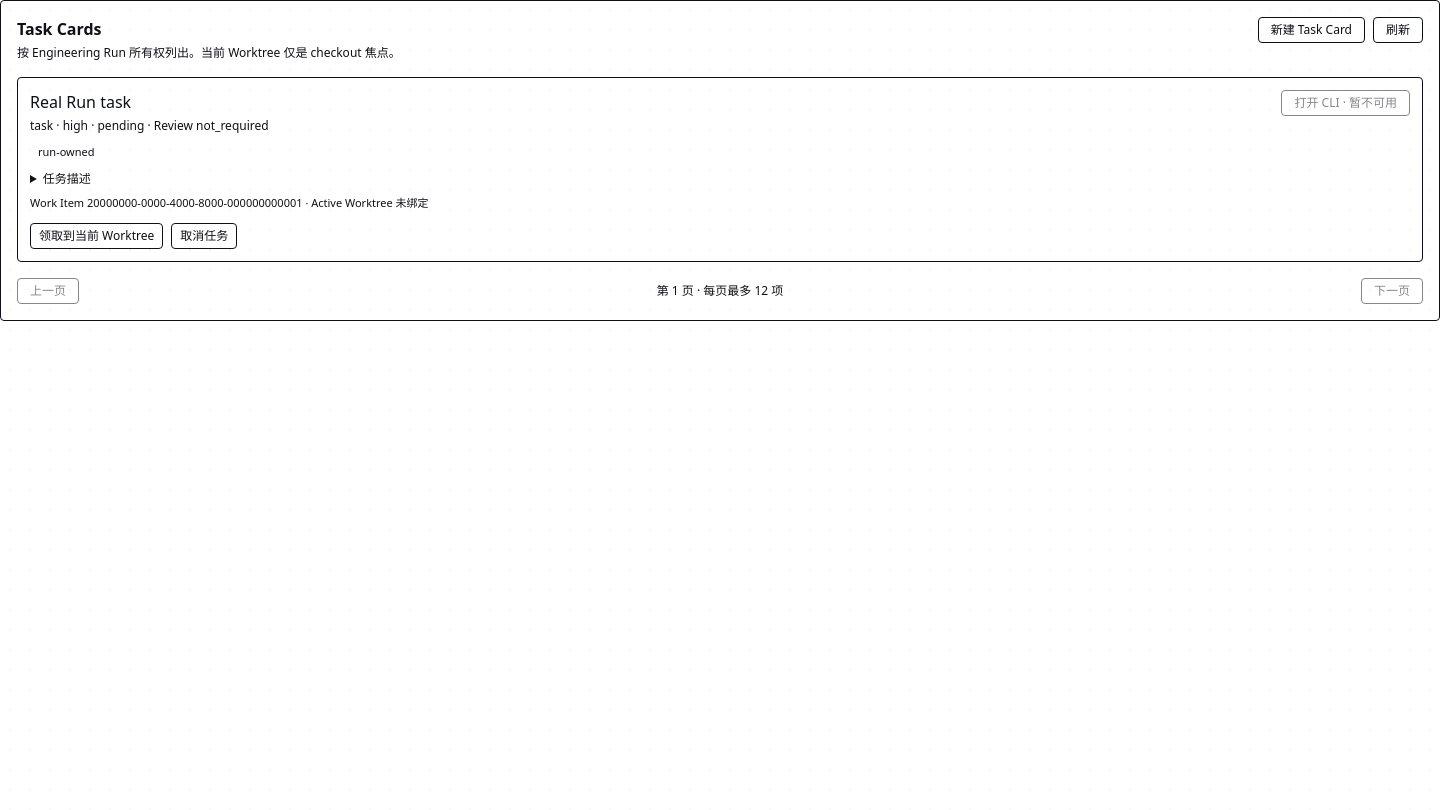
RunTaskCardsPanel › fails closed if the pending command cannot be saved before POST
The image size is (1440, 810).
Click the button "新建 Task Card". click: coordinates (1311, 30)
box: [1258,17,1365,43]
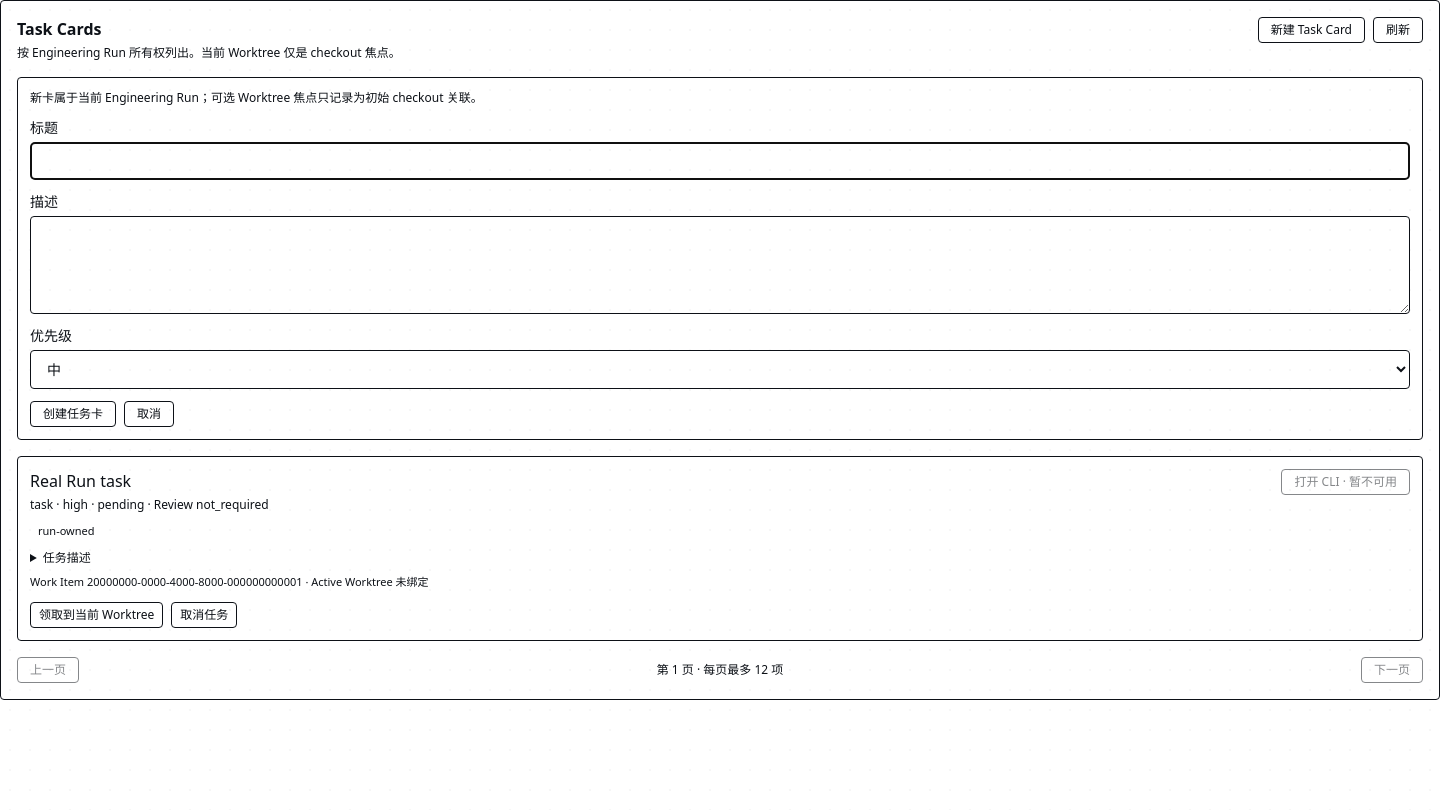
Type "Do not post without recovery" into the field labelled "标题". click: coordinates (720, 161)
box: [30,142,1410,180]
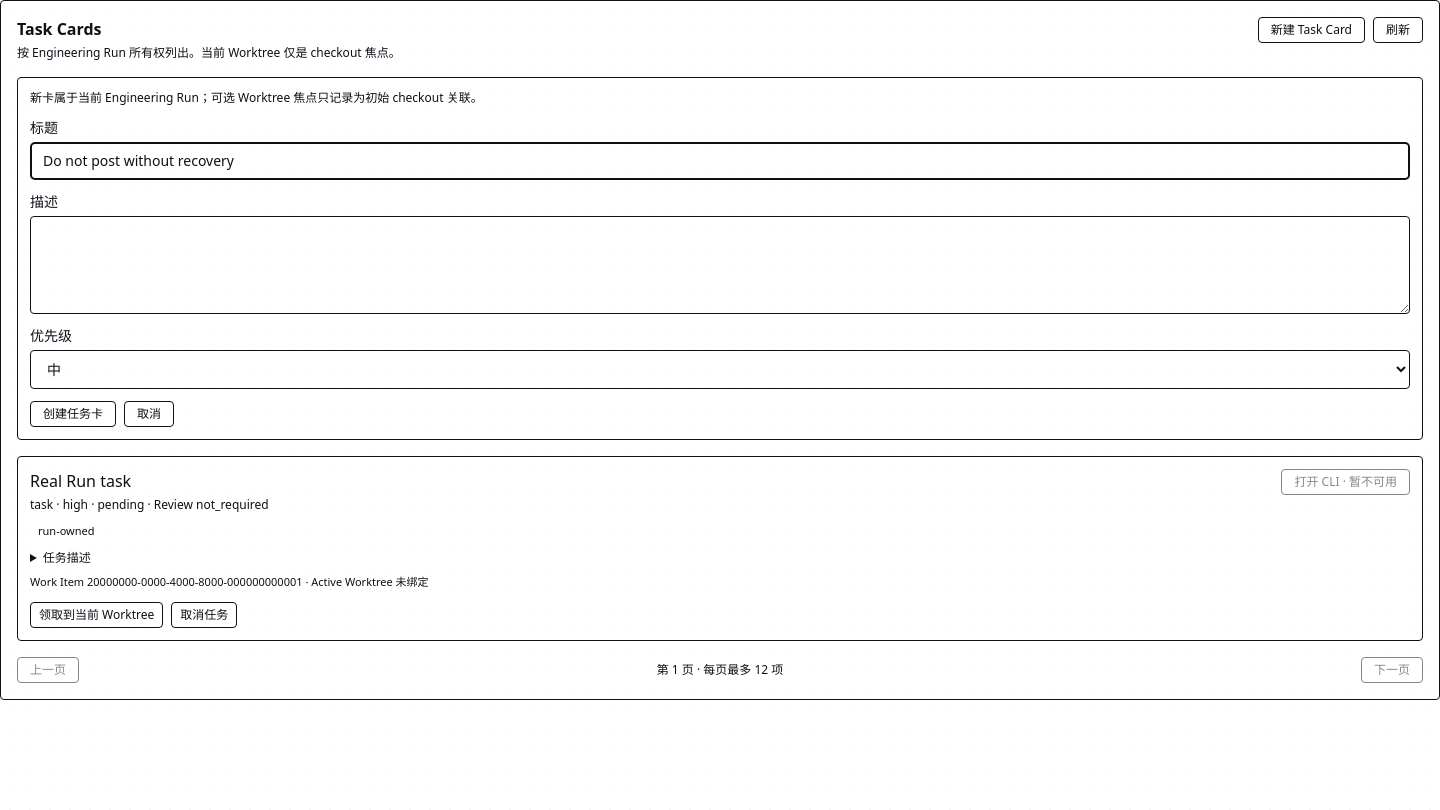
Click the button "创建任务卡". click: coordinates (73, 414)
box: [30,401,116,427]
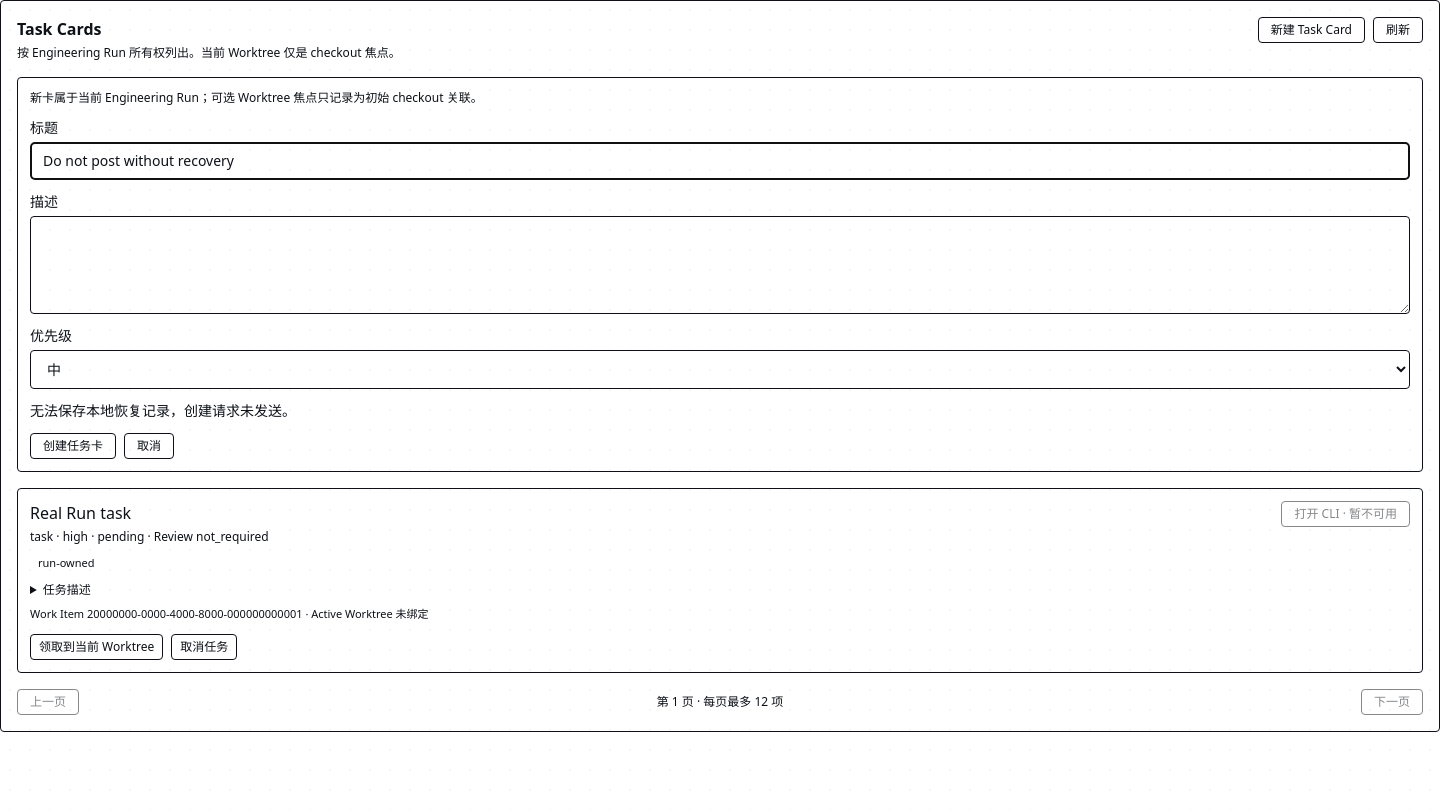
expect the message "无法保存本地恢复记录，创建请求未发送。" is shown: met, box [30,401,296,420]
